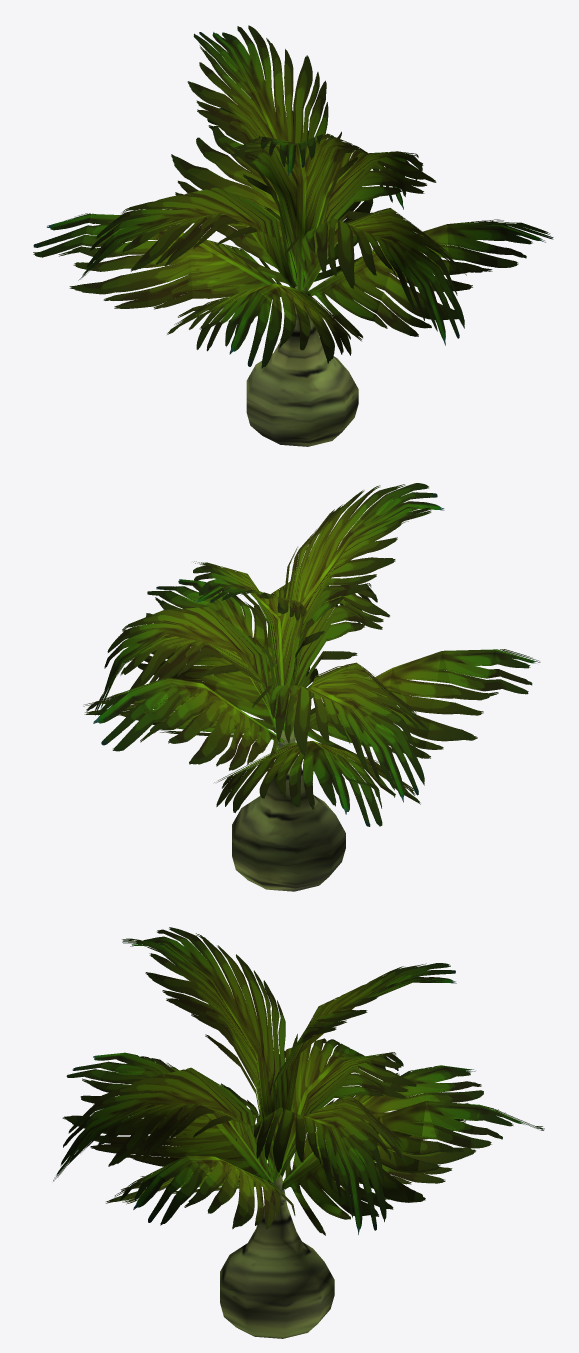
Rendered from StrangeTreeBaby(2SideLeafs).fbx.
The picture shows the model from 3 angles, top to bottom: view 1: azimuth 30°, elevation 25°; view 2: azimuth 150°, elevation 25°; view 3: azimuth 270°, elevation 25°; orthographic projection. The views are drawn at different scales.
Parts seen in each view (by area): view 1: YoungExoticPlant01(2SideLeave); view 2: YoungExoticPlant01(2SideLeave); view 3: YoungExoticPlant01(2SideLeave).
Part boxes in pixels (x1=…): YoungExoticPlant01(2SideLeave): x1=33, y1=25, x2=553, y2=446; YoungExoticPlant01(2SideLeave): x1=83, y1=483, x2=540, y2=891; YoungExoticPlant01(2SideLeave): x1=53, y1=927, x2=544, y2=1338.
Bounding box in the file's own units: 129 × 95.68 × 133.
